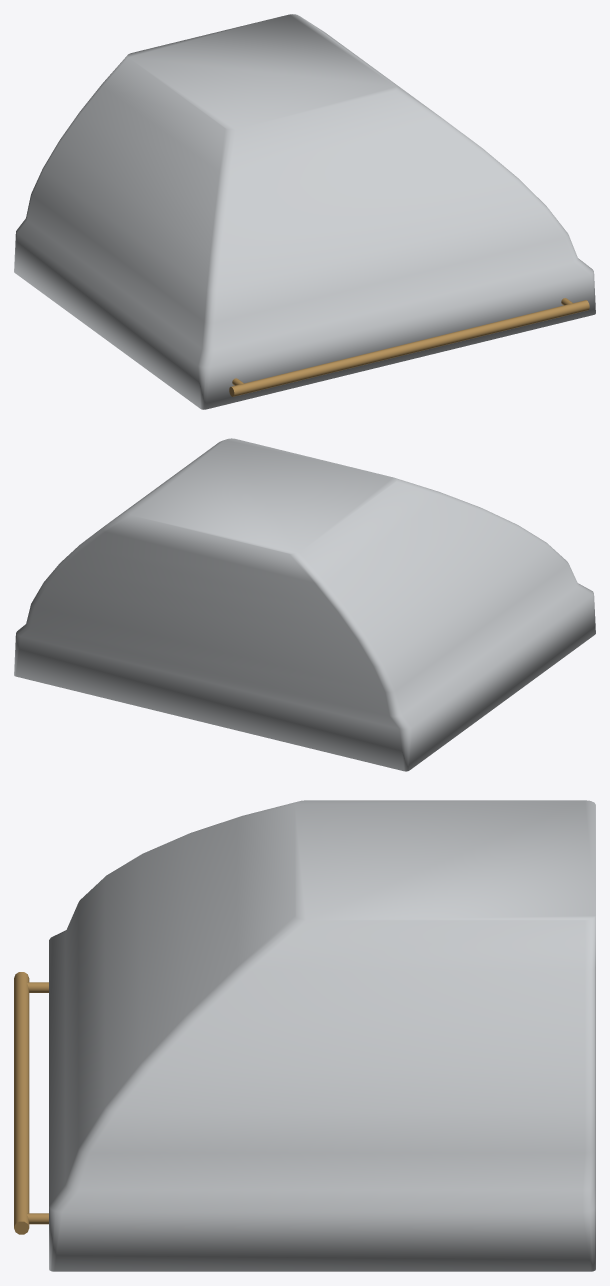
File: a_hood_retro_0.glb
The picture shows the model from 3 angles, top to bottom: view 1: azimuth 30°, elevation 25°; view 2: azimuth 150°, elevation 25°; view 3: azimuth 270°, elevation 25°; orthographic projection. The views are drawn at different scales.
Visible parts, largest first — view 1: o, o.027; view 2: o; view 3: o, o.027.
Boxes of the visible parts, left/top/right/bottom form: o: left=14, top=14, right=595, bottom=409; o.027: left=229, top=300, right=589, bottom=396; o: left=14, top=438, right=595, bottom=771; o: left=49, top=800, right=595, bottom=1271; o.027: left=14, top=972, right=29, bottom=1234.
Bounding box in the file's own units: 0.6 × 0.2772 × 0.532.
